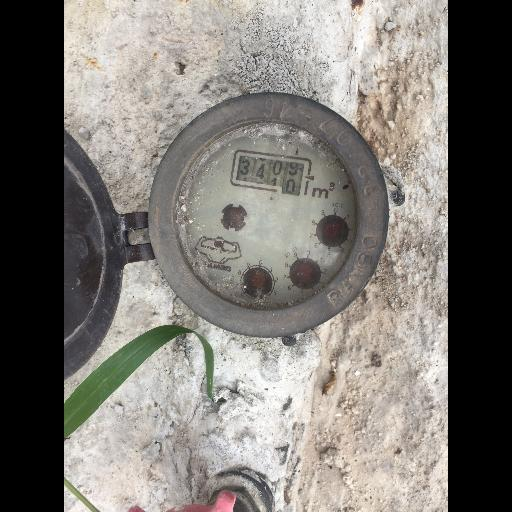0: (268, 159, 285, 187)
3: (238, 156, 254, 183)
4: (253, 157, 269, 184)
9: (282, 161, 302, 196)
border_water_meter_number: (230, 147, 313, 197)
